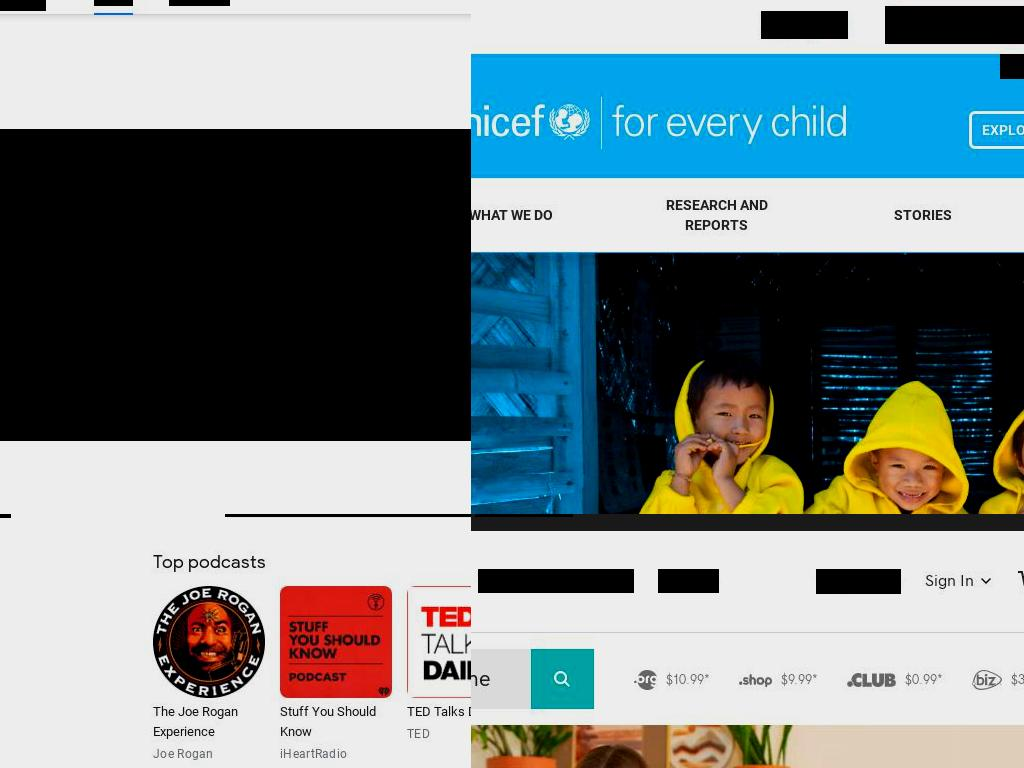button: (471, 83, 849, 162), (153, 586, 265, 762), (280, 586, 392, 762), (407, 586, 471, 742), (885, 6, 1024, 44), (530, 649, 595, 709), (478, 569, 634, 593), (816, 569, 901, 594), (969, 111, 1024, 149), (847, 671, 973, 687), (925, 567, 994, 596), (738, 671, 847, 687), (634, 671, 740, 687), (658, 569, 719, 593), (971, 671, 1024, 687), (1000, 54, 1024, 79)
heading: (0, 129, 471, 441)
image: (471, 253, 1024, 514), (153, 586, 265, 698), (280, 586, 392, 698), (407, 586, 471, 698), (847, 670, 896, 691), (738, 670, 773, 691), (971, 670, 1003, 691), (634, 670, 657, 691)
link: (637, 195, 796, 235), (843, 195, 1002, 235), (471, 195, 590, 235)
text: (153, 550, 471, 574), (471, 132, 849, 151), (153, 698, 249, 742), (280, 698, 376, 742), (761, 11, 848, 39), (816, 569, 901, 594), (153, 746, 249, 762), (280, 746, 376, 762), (407, 698, 471, 722), (925, 568, 974, 595), (407, 726, 471, 742), (665, 670, 710, 690), (658, 569, 695, 593), (904, 670, 943, 690), (781, 670, 819, 690), (982, 122, 1024, 138), (475, 514, 573, 517), (1011, 670, 1024, 690)
